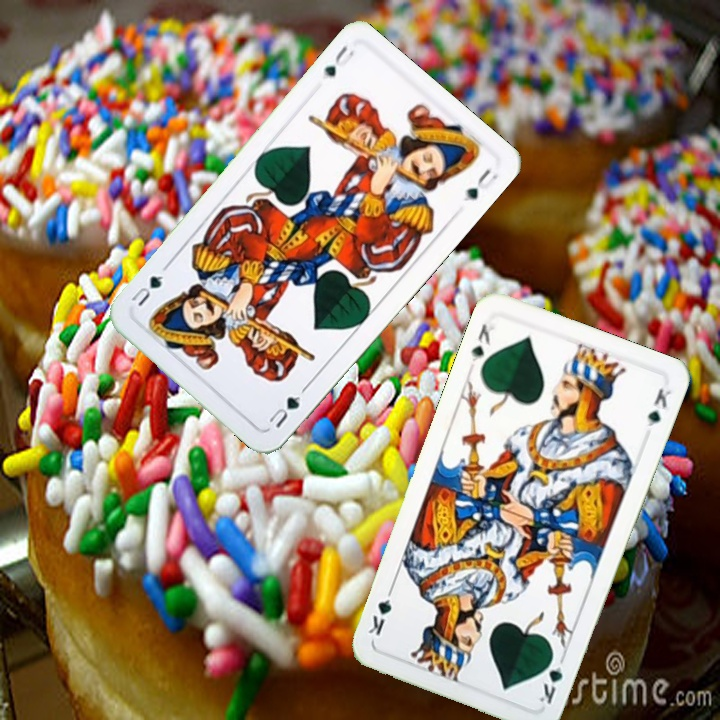GK: (534, 649, 566, 707), (467, 320, 497, 365)
GU: (262, 383, 309, 431), (319, 40, 357, 80)
